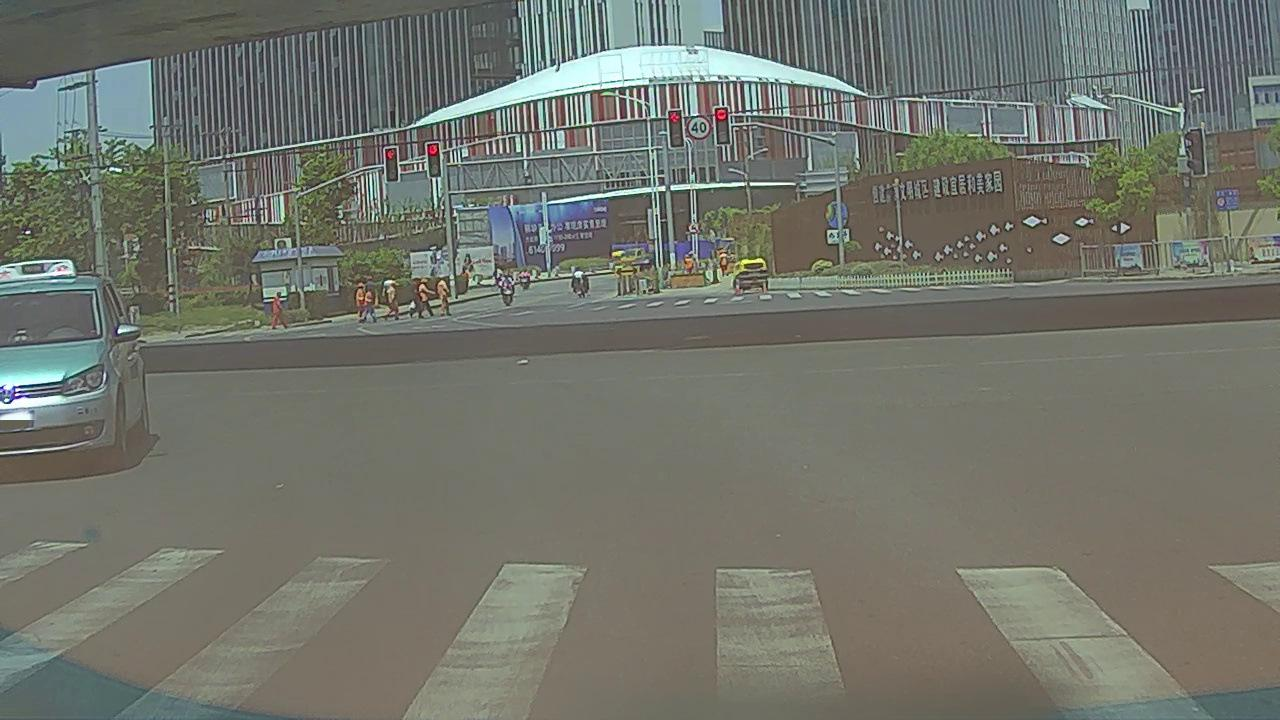traffic_light: (382, 148, 399, 182), (424, 144, 441, 176), (668, 111, 684, 145), (714, 109, 729, 144)
